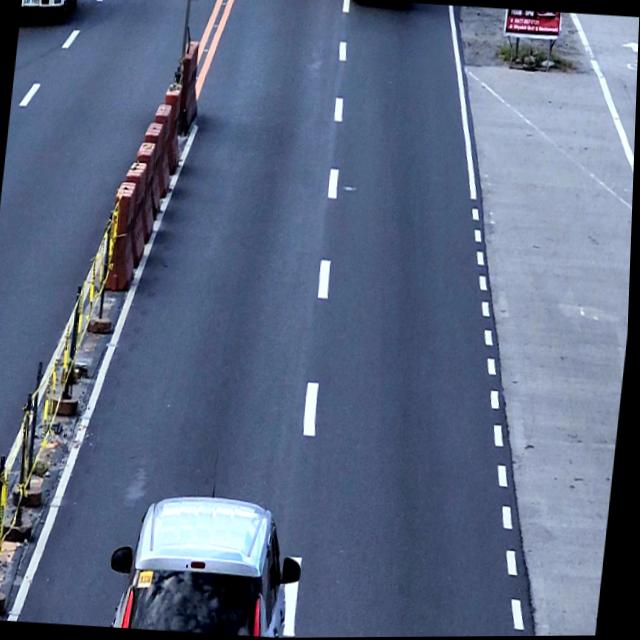Car: (108, 486, 310, 639)
License-Plate: (19, 0, 78, 25), (22, 0, 40, 7)
